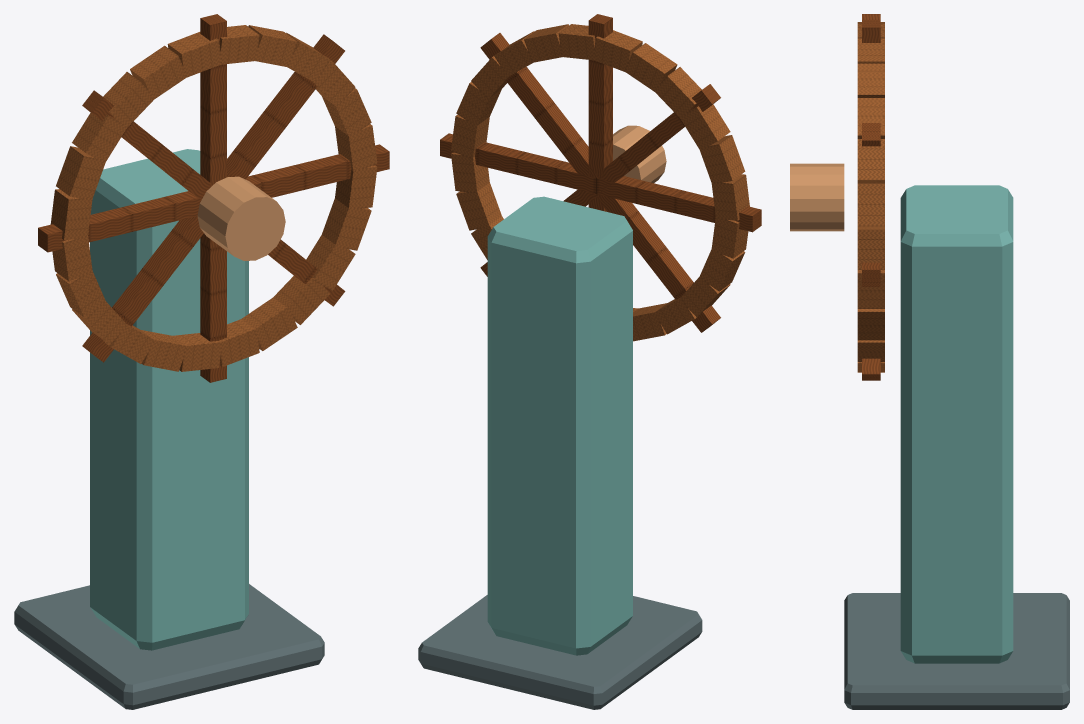
Rendered from ocean-raft-settlement-ocean-raft-settlement-steering-p-6590c3b2__28909.glb.
The picture shows the model from 3 angles, left to right: view 1: azimuth 30°, elevation 25°; view 2: azimuth 150°, elevation 25°; view 3: azimuth 270°, elevation 25°; orthographic projection. The views are drawn at different scales.
Visible parts, largest first — view 1: teal, pale, wood, iron, copper; view 2: teal, pale, wood, iron, copper; view 3: teal, iron, pale, copper, wood.
Part boxes in pixels (x1,y1,x2,y2): teal: [90, 149, 248, 650]; pale: [50, 25, 377, 371]; wood: [38, 14, 389, 382]; iron: [14, 584, 324, 709]; copper: [197, 176, 285, 260]; teal: [487, 196, 632, 655]; pale: [451, 24, 749, 341]; wood: [440, 14, 761, 332]; iron: [418, 595, 702, 709]; copper: [613, 125, 666, 183]; teal: [900, 185, 1013, 663]; iron: [844, 593, 1069, 709]; pale: [857, 22, 884, 372]; copper: [790, 163, 844, 231]; wood: [862, 14, 880, 380].
Bounding box in the file's own units: 0.8496 × 1.56 × 0.62.
5 materials, 2 textured.
